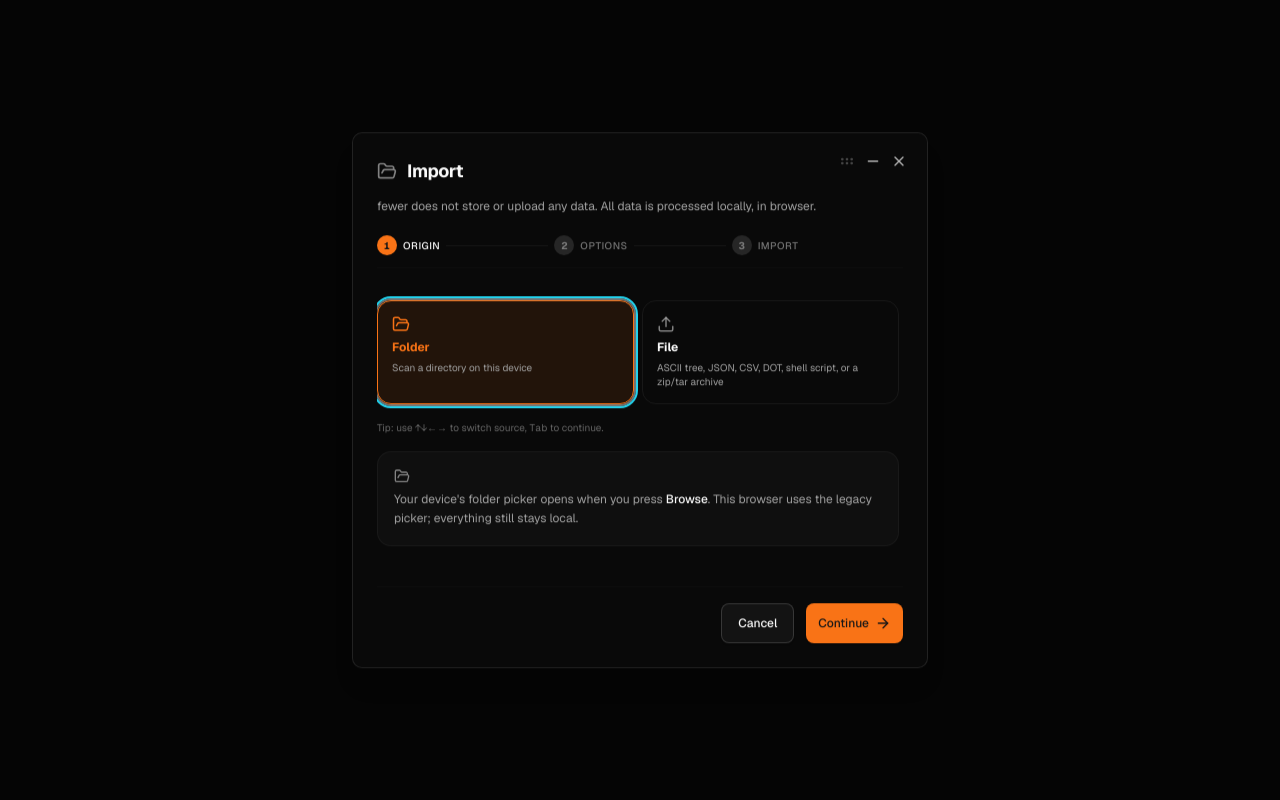
Test case: ImportFlowDialog state and step-3 import › Enter on step 2 advances to step 3
Click the button "Continue" at {"x": 855, "y": 623}, box [806,603,903,643]
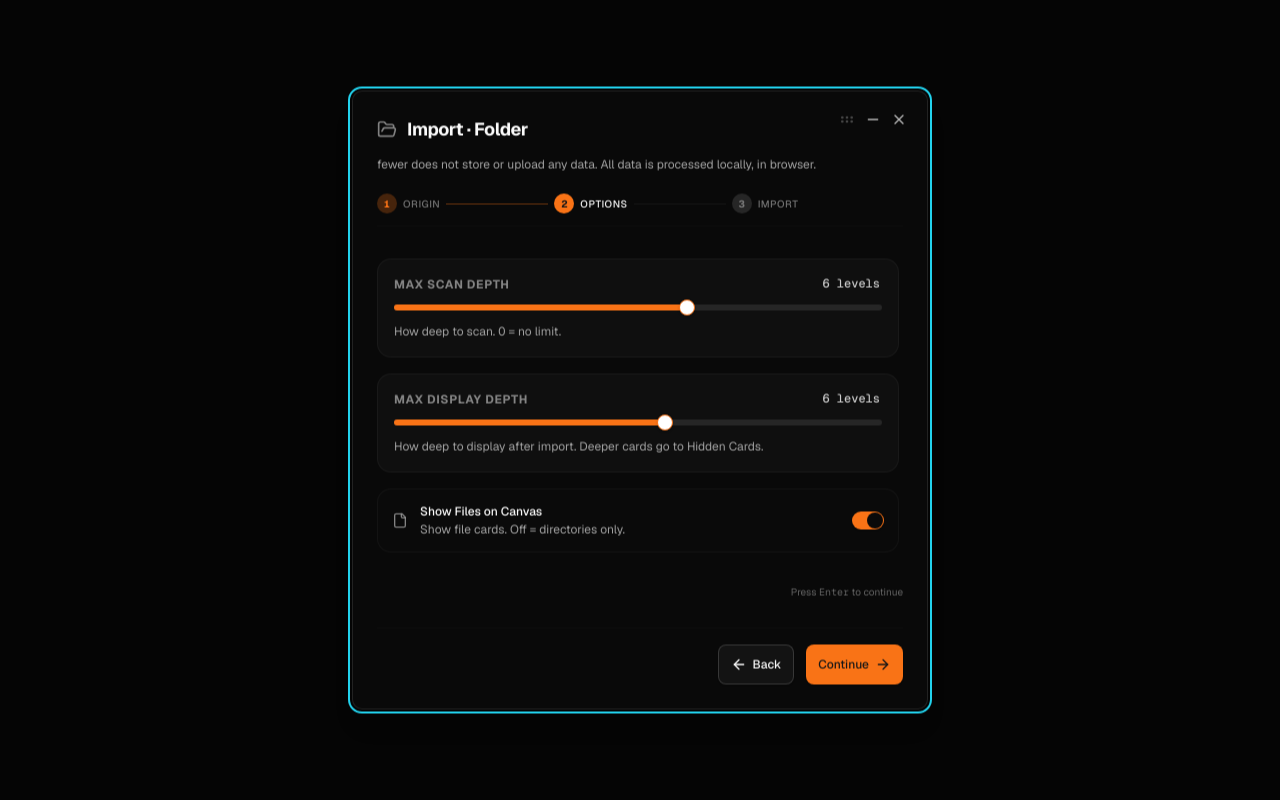
Expected: the button "Back" is shown, [718,644,794,684]
Expected: the button "Continue" is shown, [806,644,903,684]
Press Enter in the dialog, box [352,90,928,710]
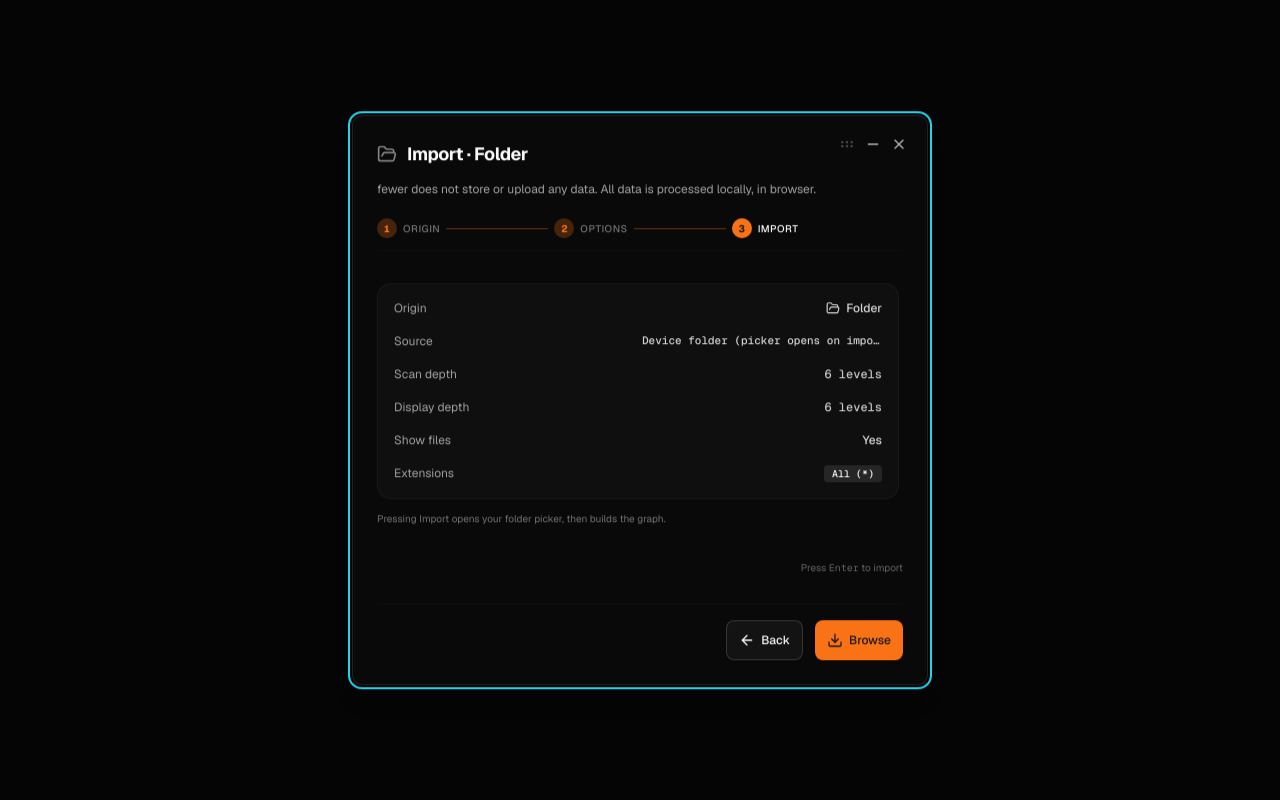
Result: the button "continue" is gone
Result: the button "Browse" is shown at [815,620,903,660]
